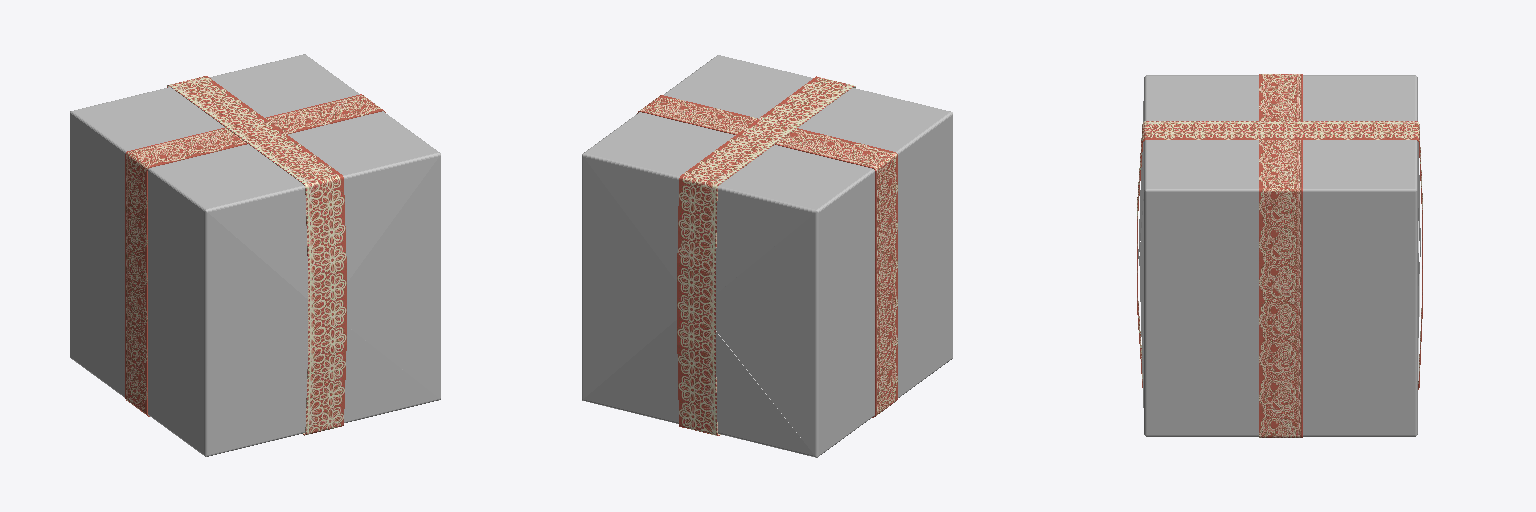
The picture shows the model from 3 angles: view 1: azimuth 30°, elevation 25°; view 2: azimuth 150°, elevation 25°; view 3: azimuth 270°, elevation 25°; orthographic projection.
Parts seen in each view (by area): view 1: obj1, obj2; view 2: obj1, obj2; view 3: obj1, obj2.
Boxes of the visible parts, x1,y1,x2,y2 form: obj1: [70, 54, 440, 456]; obj2: [125, 76, 385, 435]; obj1: [582, 55, 952, 457]; obj2: [637, 76, 897, 435]; obj1: [1138, 75, 1420, 436]; obj2: [1137, 74, 1422, 437].
Size of the model in its own units: 33.23 by 33.44 by 34.54.
2 materials, 1 textured.